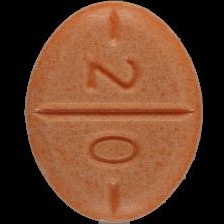0555-0973: (0, 0, 224, 224)
